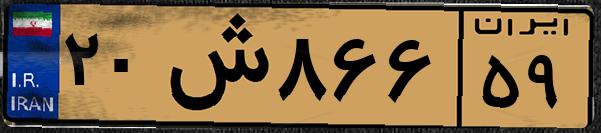0: (110, 28, 158, 98)
2: (57, 26, 110, 100)
5: (475, 38, 525, 113)
6: (385, 28, 445, 110), (330, 28, 385, 110)
8: (270, 28, 330, 110)
9: (525, 38, 570, 115)
ش: (158, 12, 270, 120)
